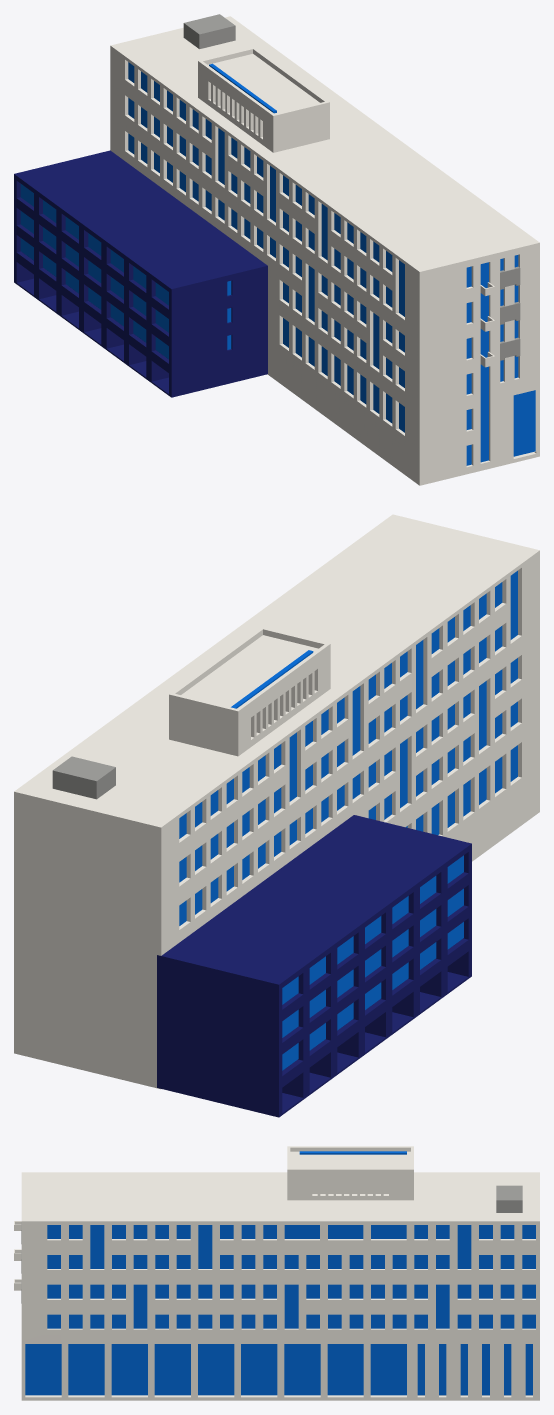
File: 약학관.fbx
3 views of the same model, one above another, from view 1: azimuth 30°, elevation 25°; view 2: azimuth 150°, elevation 25°; view 3: azimuth 270°, elevation 25° (orthographic). The views are drawn at different scales.
Visible parts, largest first — view 1: Cube_13, Cube_22, Cube_143, Cube_20, Cube_73, Cube_145, Cube_21; view 2: Cube_13, Cube_22, Cube_143, Cube_20, Cube_145, Cube_21; view 3: Cube_13, Cube_73, Cube_20, Cube_21, Cube_144.
Boxes of the visible parts, box(x1,y1,x2,y2) form: Cube_13: box(110, 16, 539, 485); Cube_22: box(14, 150, 267, 397); Cube_143: box(128, 62, 404, 432); Cube_20: box(198, 47, 329, 152); Cube_73: box(466, 255, 535, 465); Cube_145: box(20, 184, 168, 359); Cube_21: box(183, 14, 235, 49); Cube_13: box(14, 514, 539, 1089); Cube_22: box(157, 815, 471, 1117); Cube_143: box(179, 570, 517, 925); Cube_20: box(169, 627, 330, 756); Cube_145: box(282, 855, 463, 1070); Cube_21: box(52, 756, 115, 799); Cube_13: box(14, 1172, 539, 1400); Cube_73: box(25, 1225, 535, 1395); Cube_20: box(287, 1146, 413, 1200); Cube_21: box(496, 1185, 522, 1212); Cube_144: box(299, 1151, 406, 1154).
Bounding box in the file's own units: 484 × 535 × 1215.
